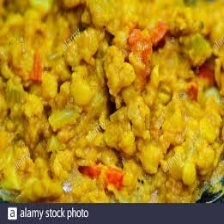sabzi: (0, 0, 223, 201)
